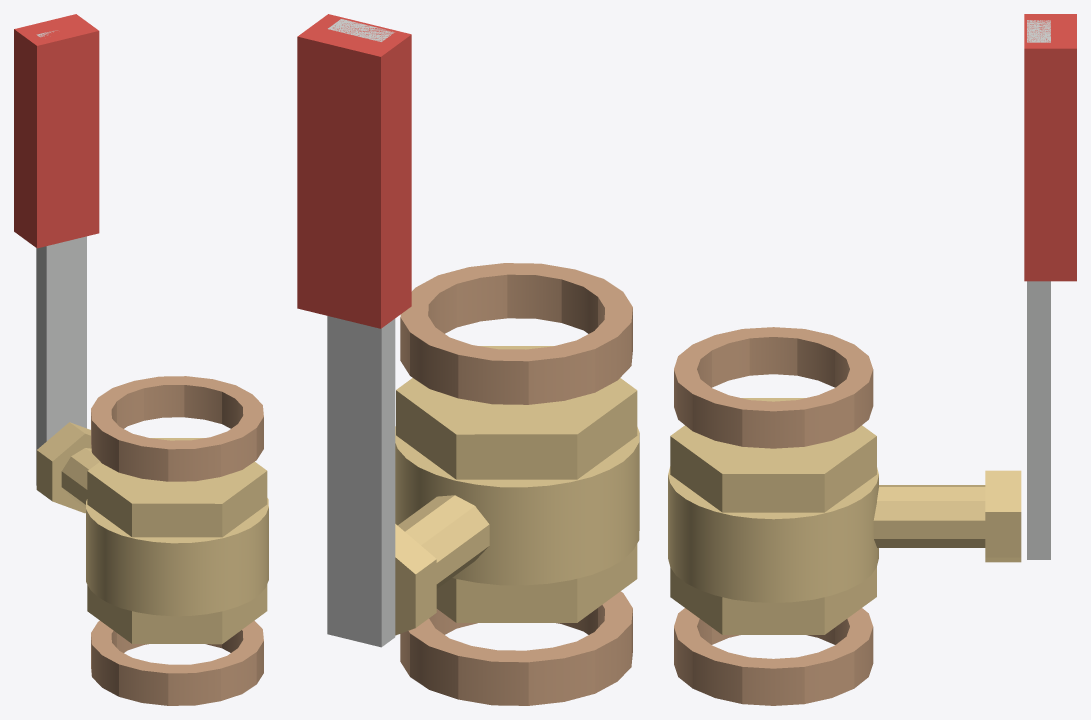
File: slab_pipes_supply__water_heater__10833165.glb
The picture shows the model from 3 angles, left to right: view 1: azimuth 30°, elevation 25°; view 2: azimuth 150°, elevation 25°; view 3: azimuth 270°, elevation 25°; orthographic projection. The views are drawn at different scales.
Visible parts, largest first — view 1: valve_supply_wh_closet_cold__pex; view 2: valve_supply_wh_closet_cold__pex; view 3: valve_supply_wh_closet_cold__pex.
Part boxes in pixels (box(x1,y1,x2,y2)): valve_supply_wh_closet_cold__pex: box(14, 14, 268, 705); valve_supply_wh_closet_cold__pex: box(297, 14, 639, 705); valve_supply_wh_closet_cold__pex: box(668, 14, 1076, 705).
Bounding box in the file's own units: 0.0356 × 0.1179 × 0.0691.
